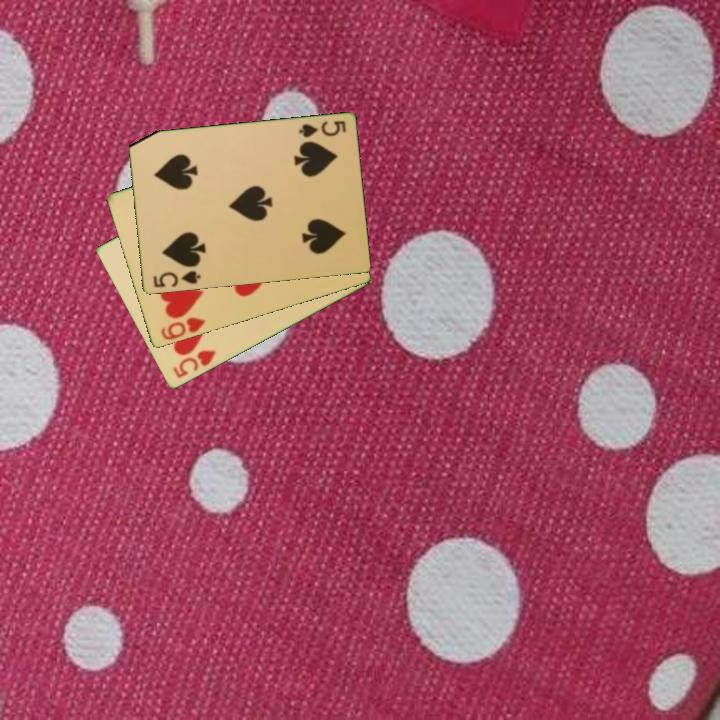5h: (169, 347, 219, 381)
5s: (149, 267, 203, 291), (295, 117, 349, 141)
6h: (157, 314, 208, 343)
